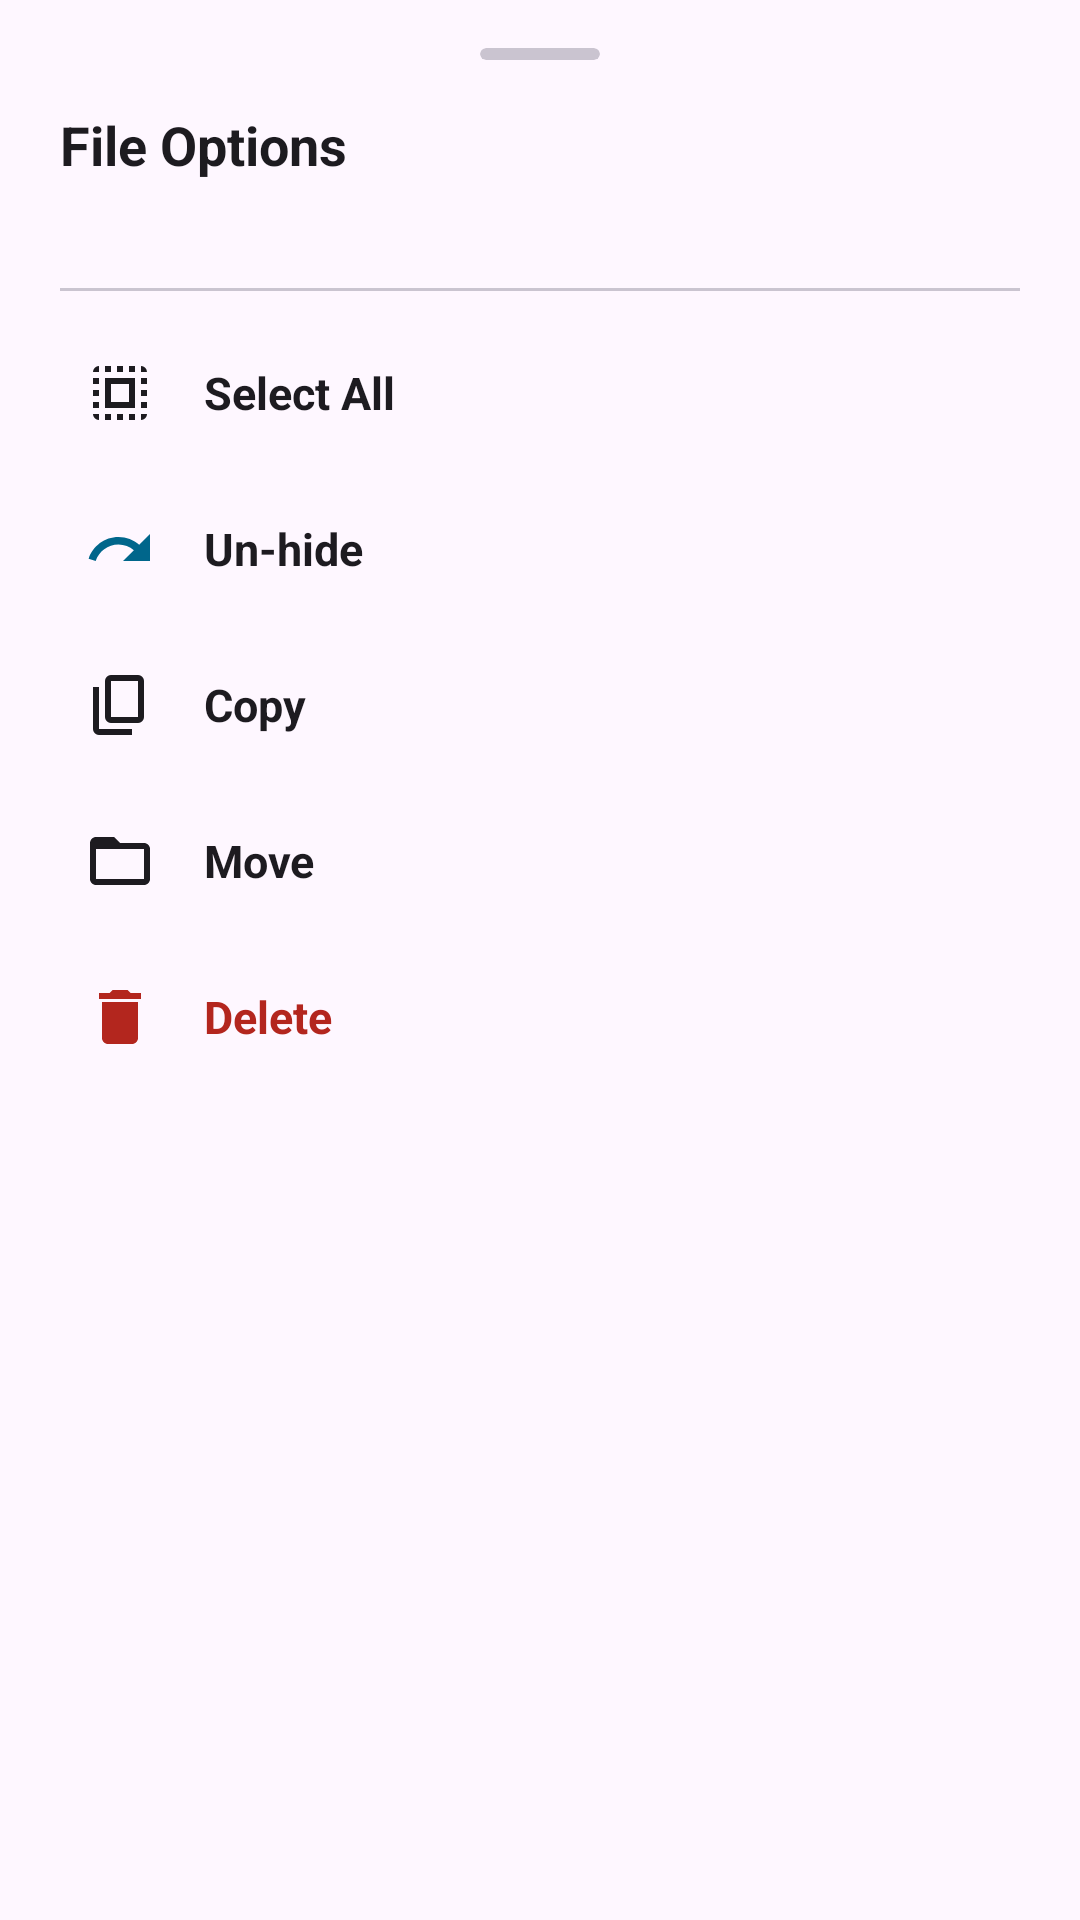

Icon click points for this 1080px x 1920px phone screenshot, format (x,y):
folder: (120,861)
redo: (119,547)
